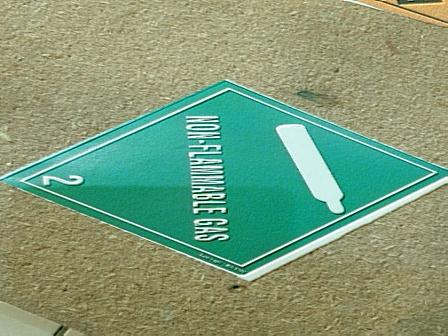non-flammable-gas: (1, 79, 448, 277)
